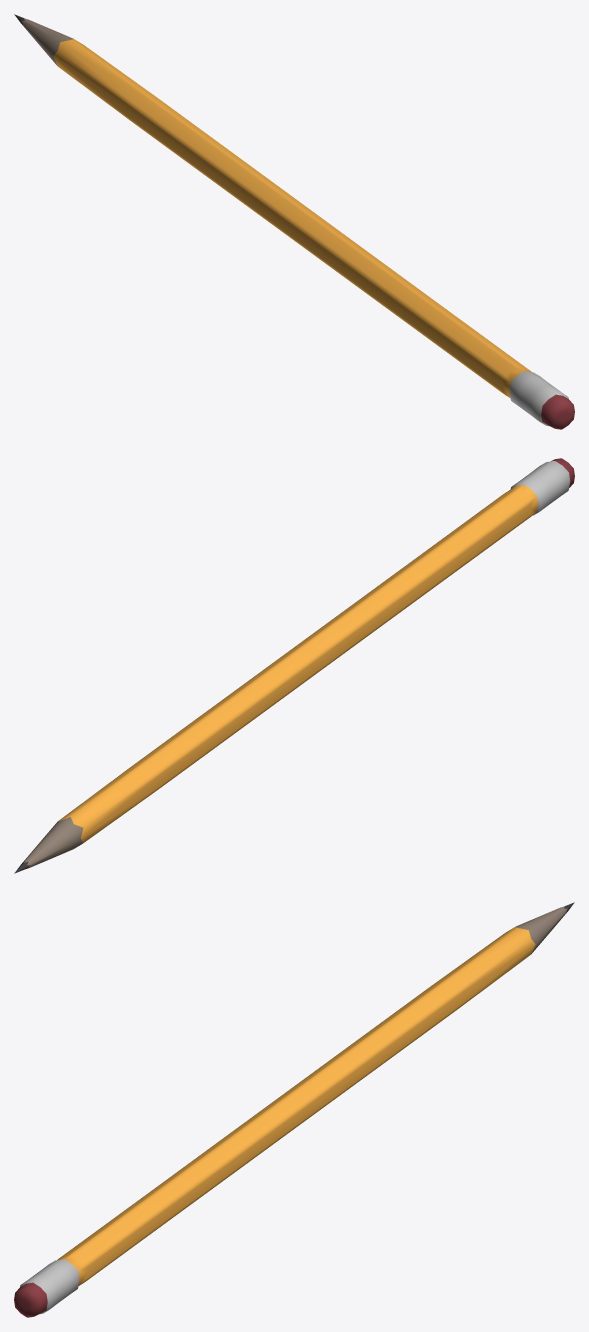
Rendered from pencil.fbx.
3 renders of one model, top to bottom at view 1: azimuth 30°, elevation 25°; view 2: azimuth 150°, elevation 25°; view 3: azimuth 330°, elevation 25°, orthographic.
Parts seen in each view (by area): view 1: Mesh Object; view 2: Mesh Object; view 3: Mesh Object.
Boxes of the visible parts, box(x1,y1,x2,y2) form: Mesh Object: box(14, 14, 574, 429); Mesh Object: box(14, 458, 574, 873); Mesh Object: box(14, 902, 574, 1317).
Bounding box in the file's own units: 1.48 × 1.57 × 44.47.
